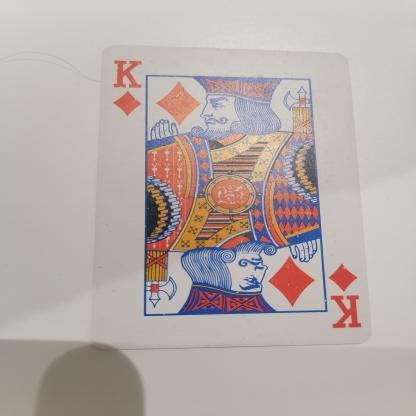KD: (321, 250, 363, 330), (106, 58, 158, 121)
